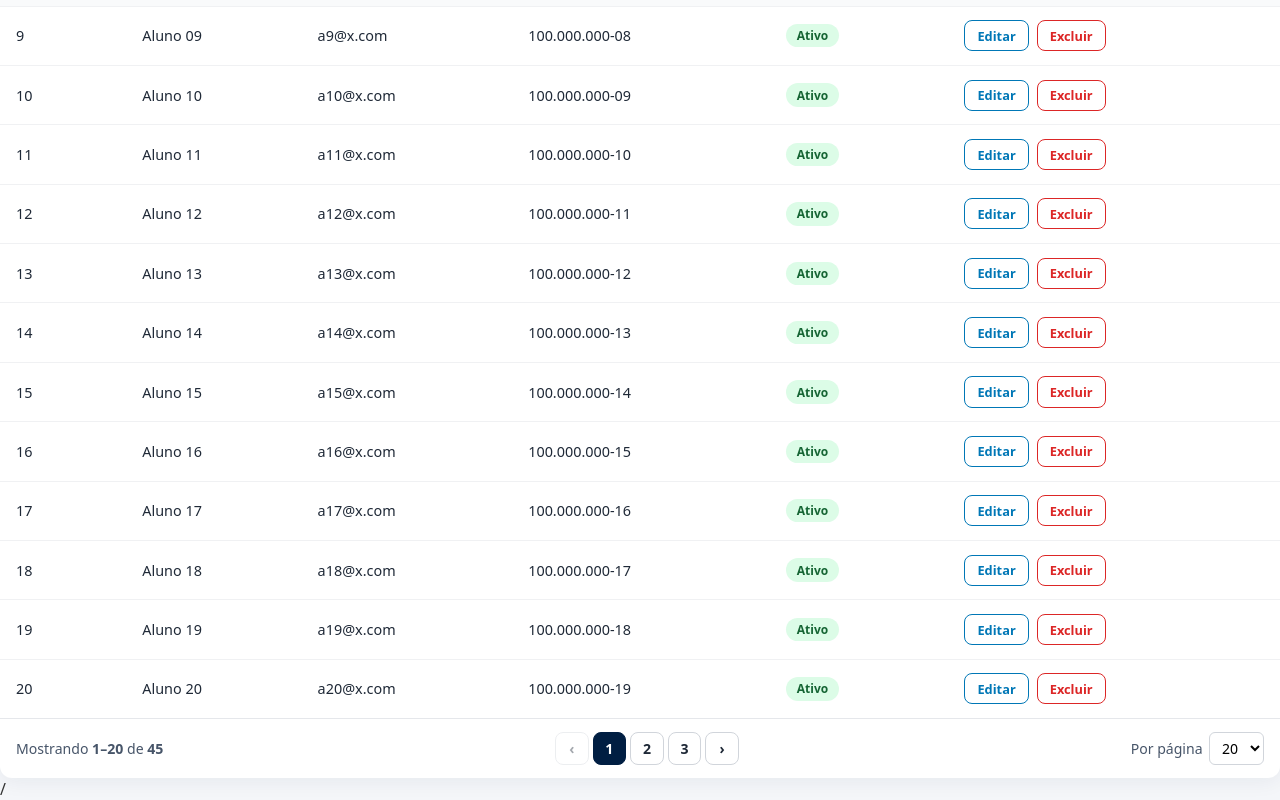
mudar quantos por página volta para a primeira
This screenshot has width=1280, height=800.
(page scrolled)
Click the button "3" at (685,749), box [668,732,701,766]
(page scrolled)
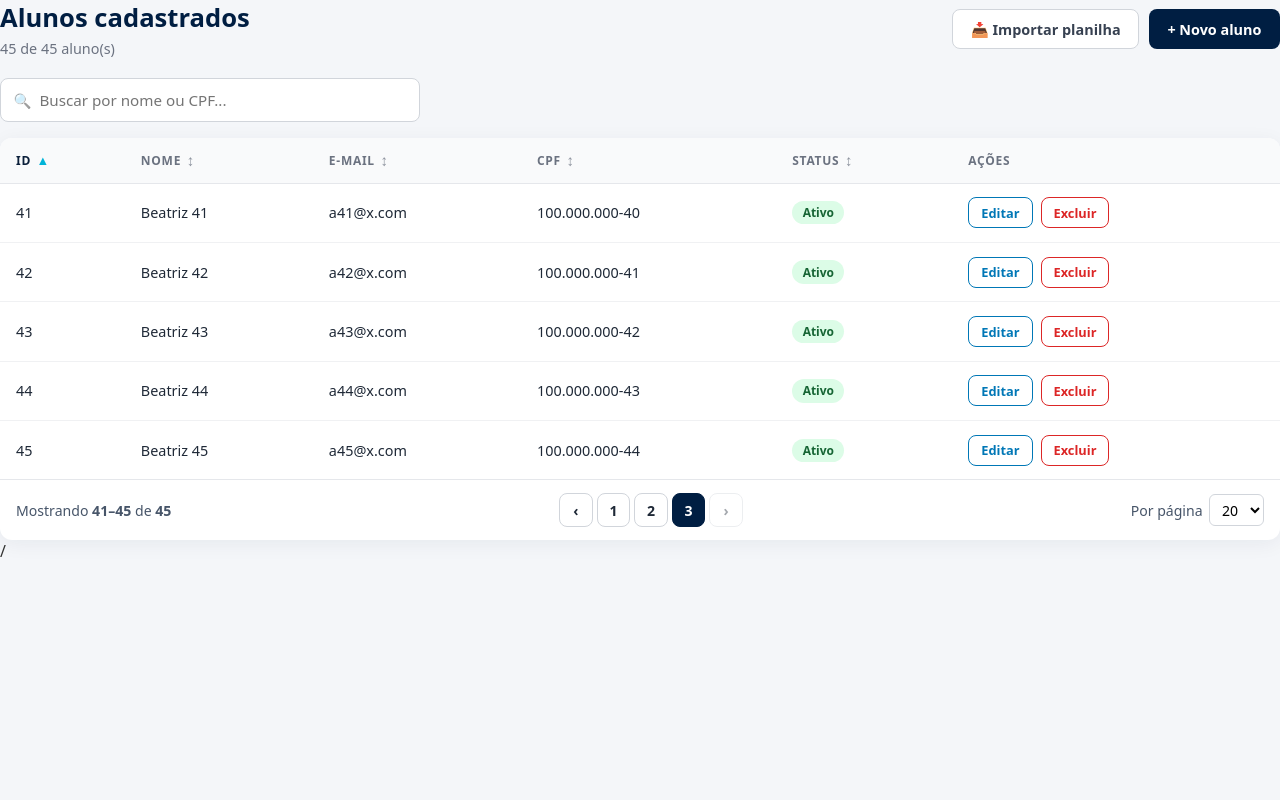
Select "50" in the dropdown labelled "Por página" at (1236,510), box [1209,494,1264,526]
(page scrolled)
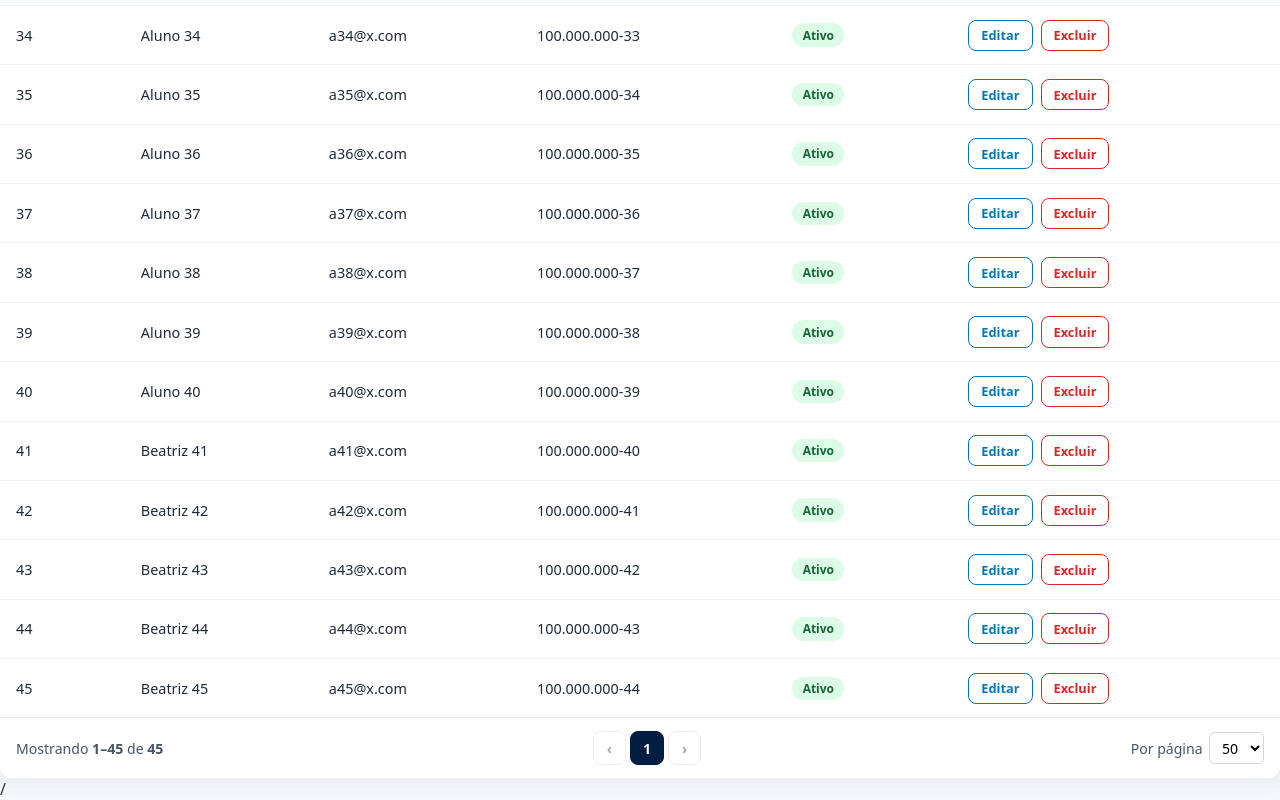
expect the navigation bar named "Páginas de alunos" shows "Mostrando 1–45 de 45": met, box [0,717,1279,778]
